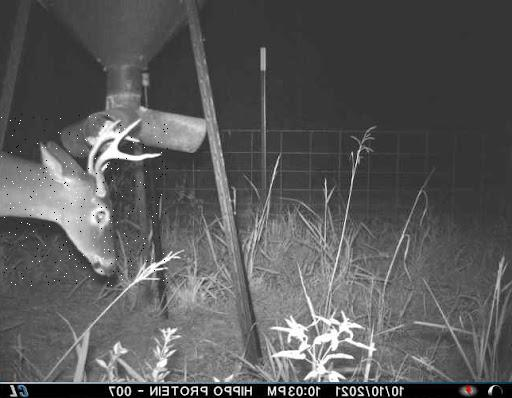Deer: (0, 113, 168, 286)
